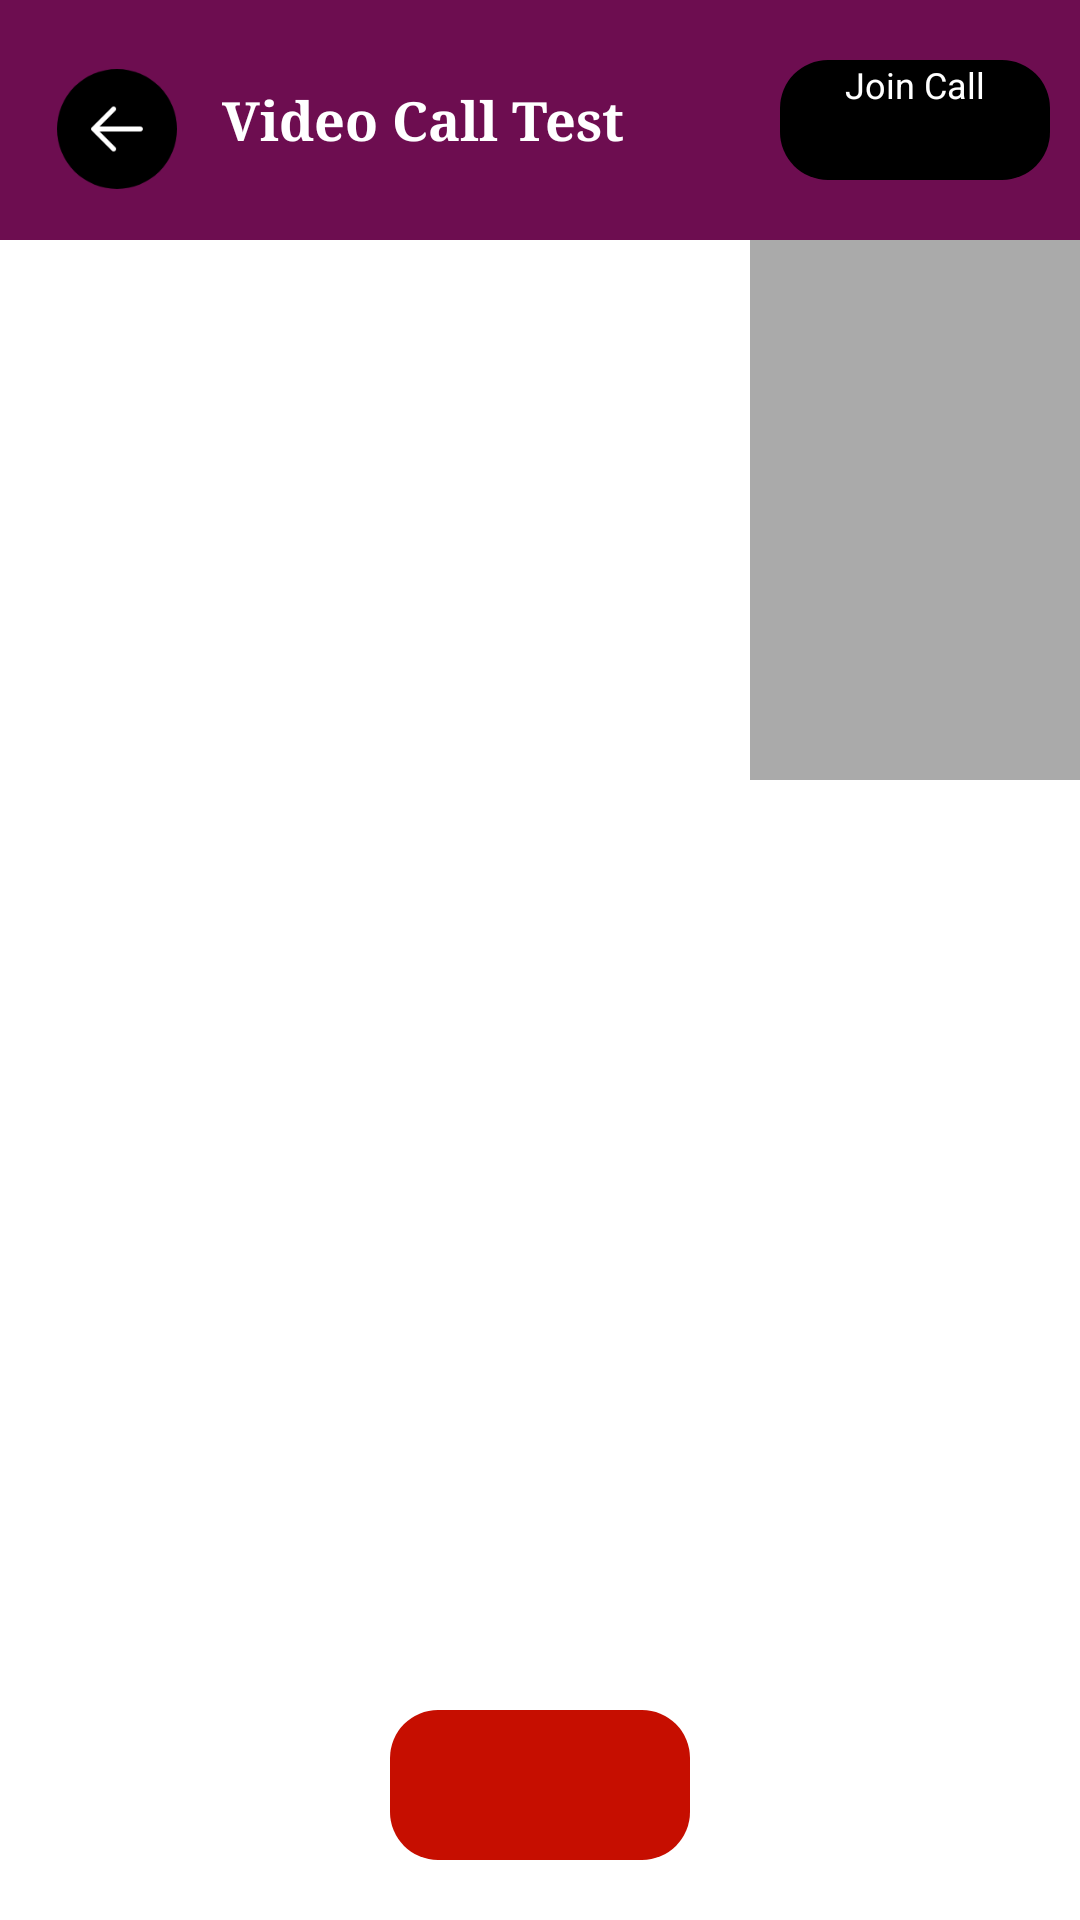

Icons on this 1080x1920 Android screen, each with the point to tap as [x,y]:
left back arrow: [117,129]
